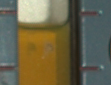border: (79, 63, 103, 73), (77, 9, 101, 17), (0, 63, 19, 73), (0, 8, 20, 17)
liquidlevel: (17, 20, 72, 36)
